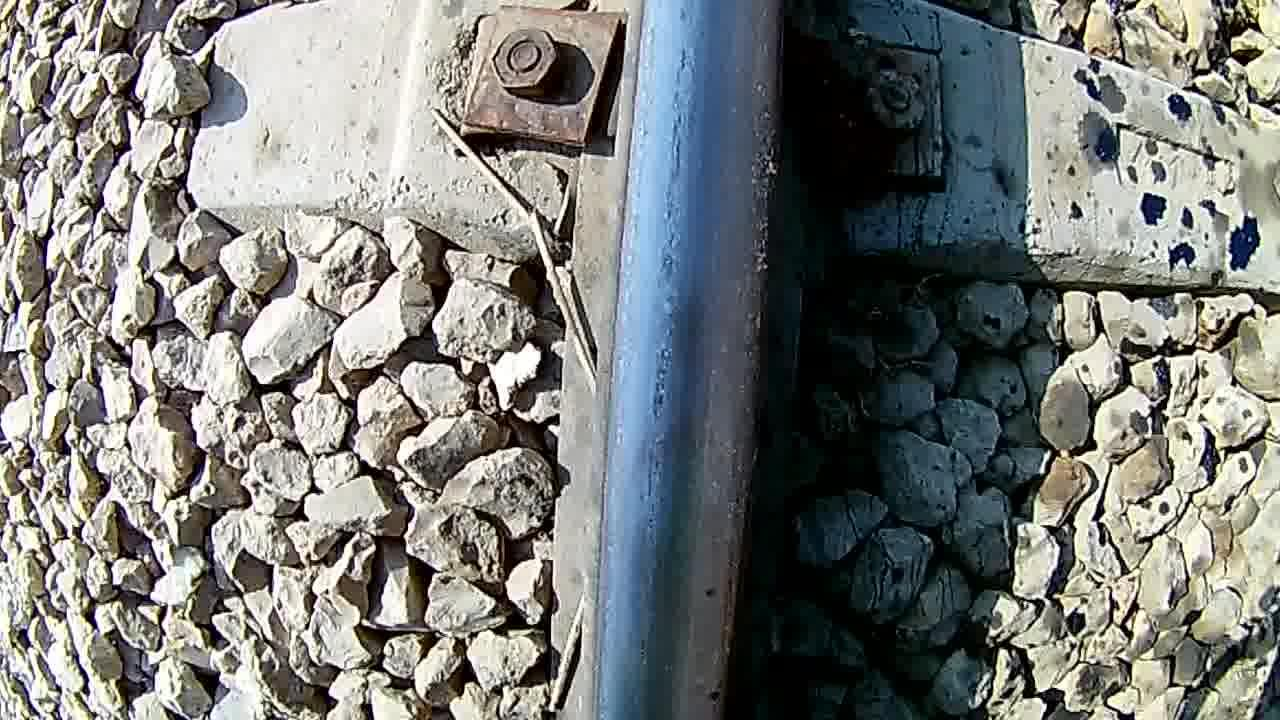crack: (625, 1, 794, 720)
